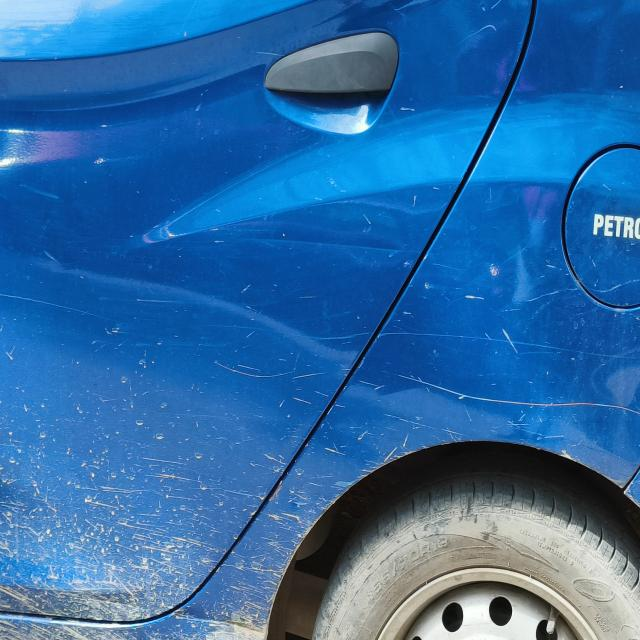scratch: (389, 366, 640, 432), (279, 326, 632, 362), (0, 284, 156, 354), (222, 222, 426, 261), (209, 351, 333, 387), (448, 2, 514, 58), (459, 284, 495, 305), (397, 102, 418, 121)
